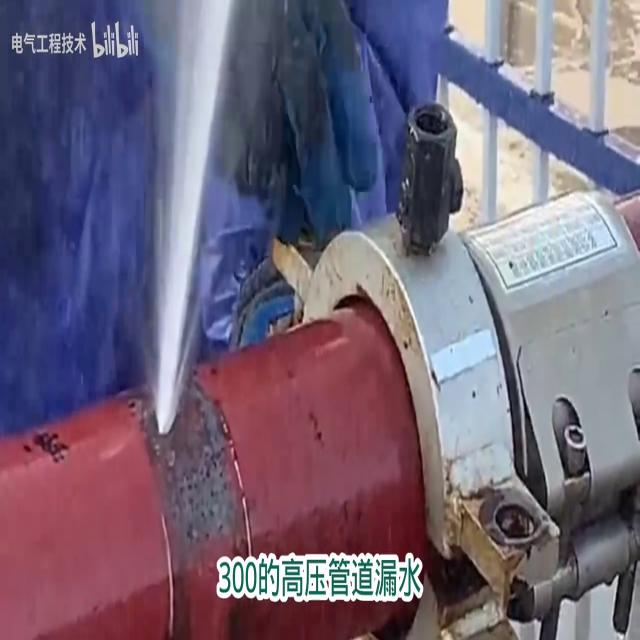leak: (155, 0, 236, 436)
